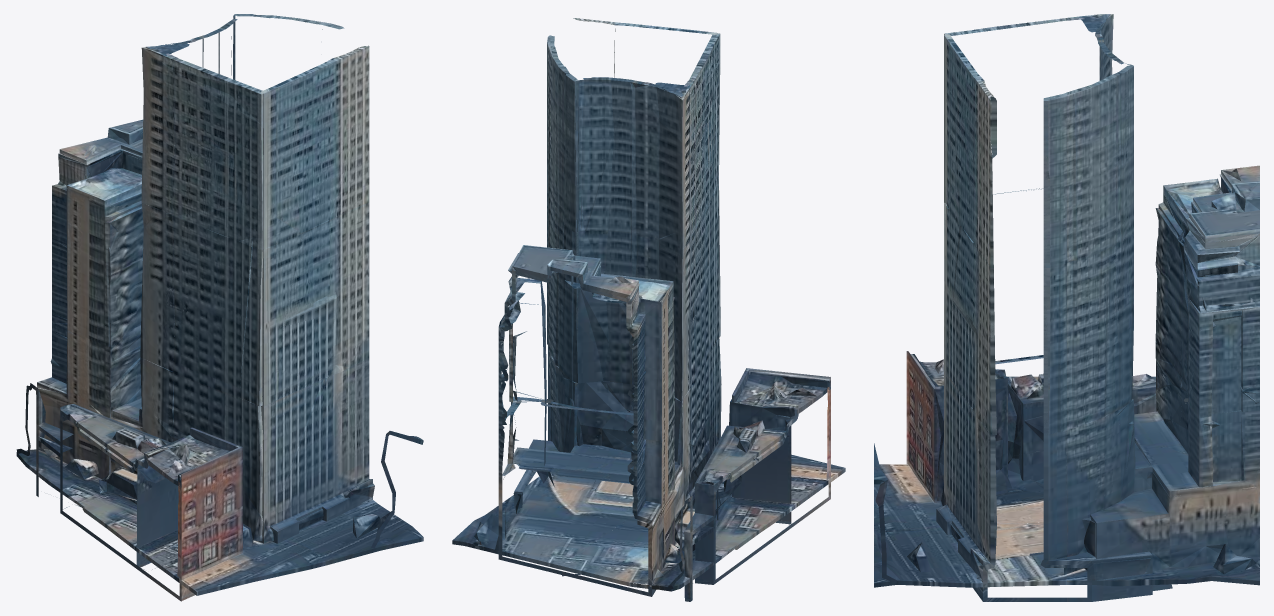
The model's file is chunk_1_3.glb.
The picture shows the model from 3 angles, left to right: view 1: azimuth 30°, elevation 25°; view 2: azimuth 150°, elevation 25°; view 3: azimuth 270°, elevation 25°; orthographic projection. The views are drawn at different scales.
Visible parts, largest first — view 1: hero-chunk; view 2: hero-chunk; view 3: hero-chunk.
Part boxes in pixels (x1,y1,x2,y2): hero-chunk: (16, 14, 423, 601); hero-chunk: (452, 18, 845, 601); hero-chunk: (874, 14, 1259, 601).
Size of the model in its own units: 56.04 by 111 by 76.32.
5 materials, 5 textured.
